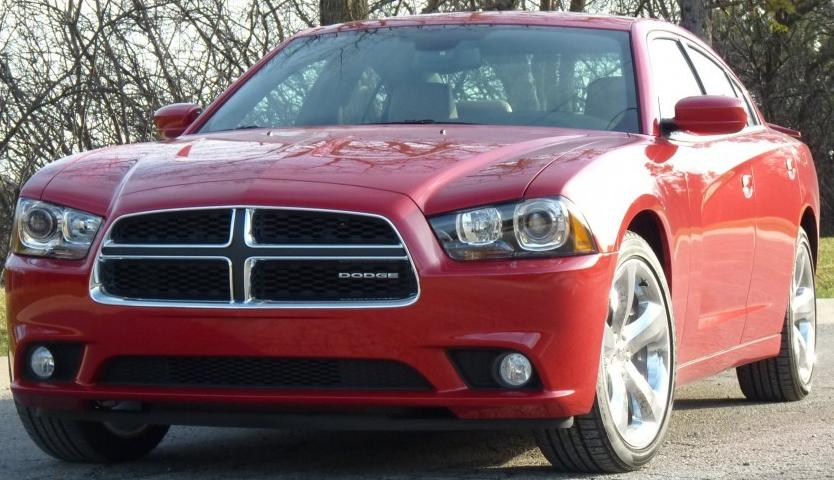front_view: (13, 175, 618, 414)
headlight: (392, 175, 606, 276)
side_glass: (639, 25, 763, 126)
